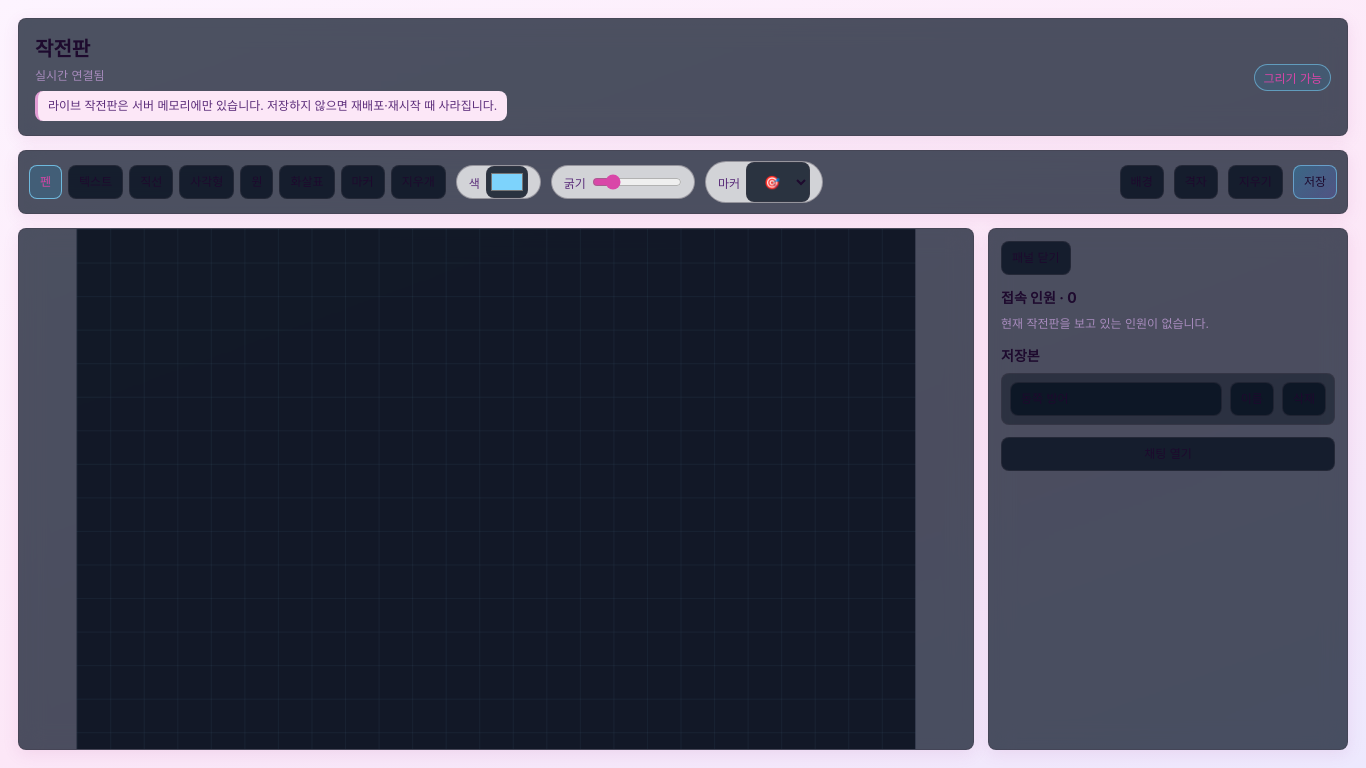
Test: OperationBoardTab › 파괴적 동작 확인 절차 › 저장본 개별 조회가 실패하면 라이브 보드를 건드리지 않고 알린다
This screenshot has width=1366, height=768.
Click the button "동쪽 방어".
click(1116, 399)  # box [1010,382,1222,416]
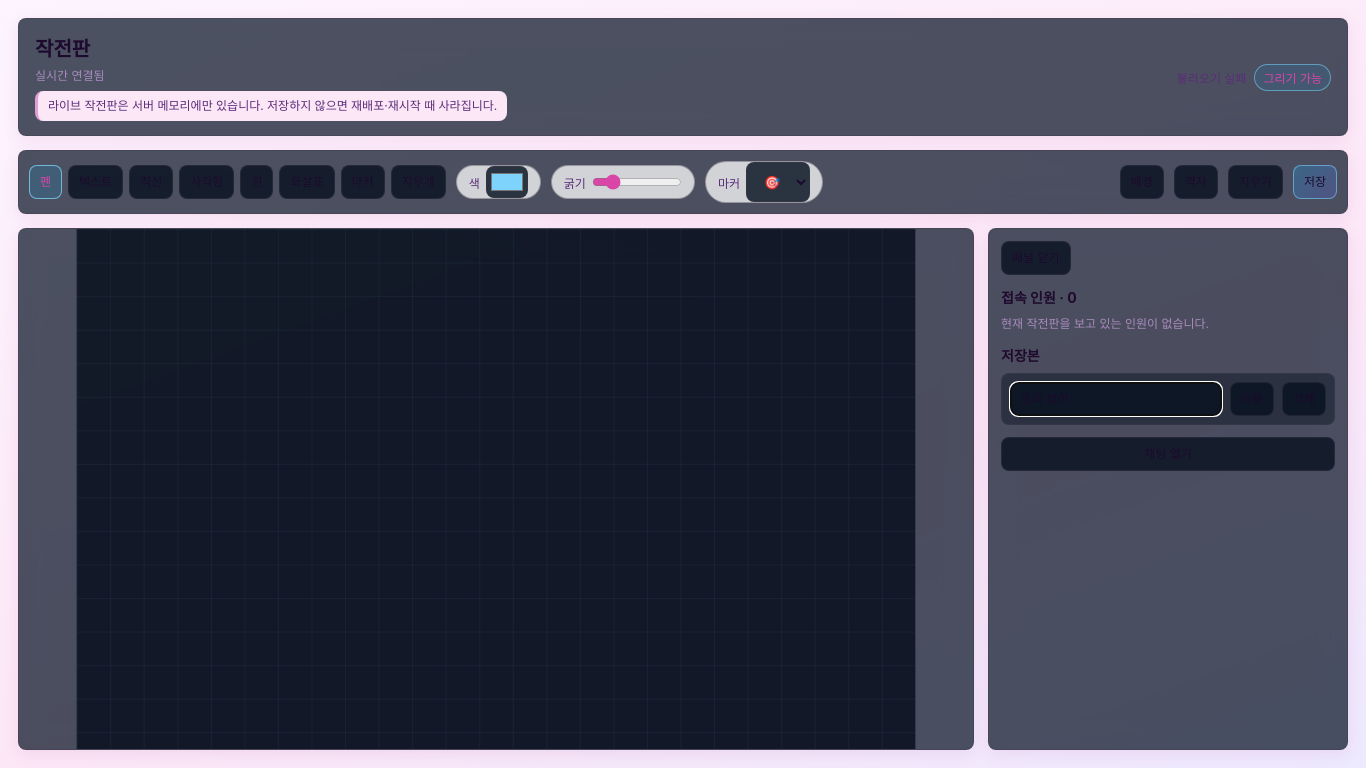
Check: the text "불러오기 실패" is shown, box [1177,68,1246,86]
